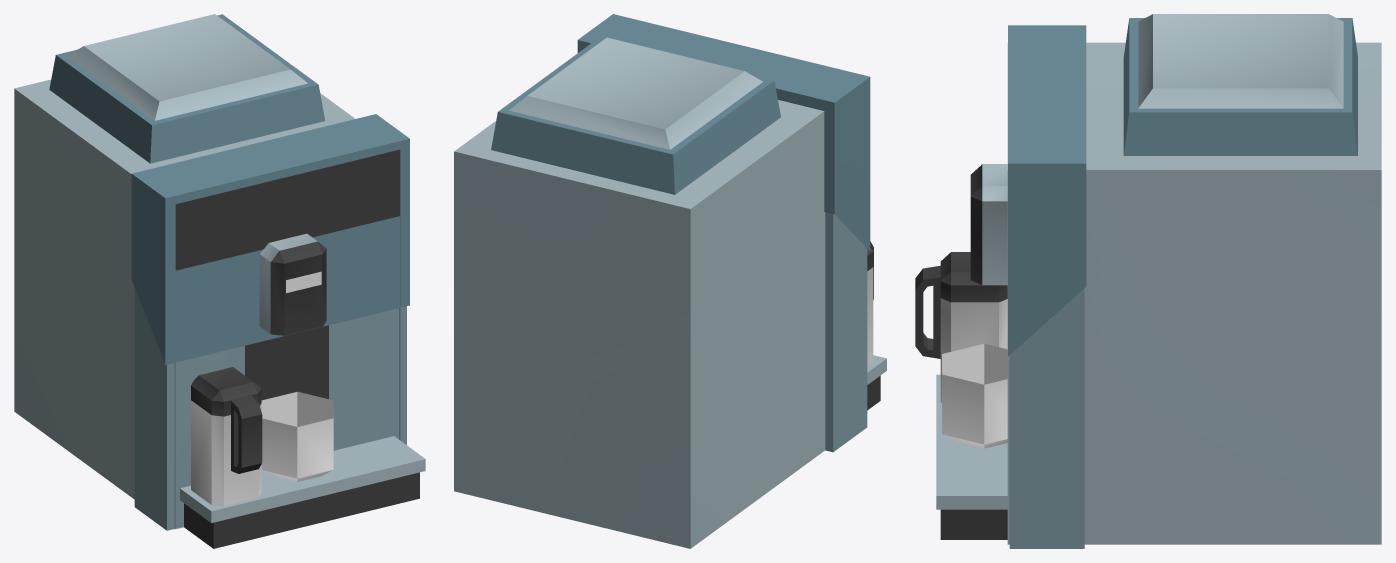
Rendered from coffee_machine_001.obj.
3 renders of one model, left to right at view 1: azimuth 30°, elevation 25°; view 2: azimuth 150°, elevation 25°; view 3: azimuth 270°, elevation 25°, orthographic. The views are drawn at different scales.
Parts seen in each view (by area): view 1: coffee_machine_001; view 2: coffee_machine_001; view 3: coffee_machine_001.
Boxes of the visible parts, <box> form: coffee_machine_001: <box>14,14,425,548</box>; coffee_machine_001: <box>454,14,886,548</box>; coffee_machine_001: <box>915,14,1381,548</box>.
Size of the model in its own units: 0.2354 by 0.3415 by 0.3351.
